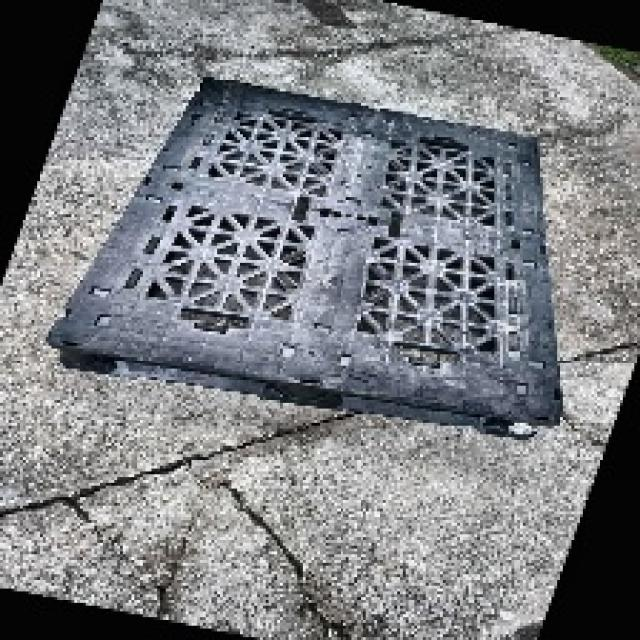igps: (39, 68, 570, 448)
